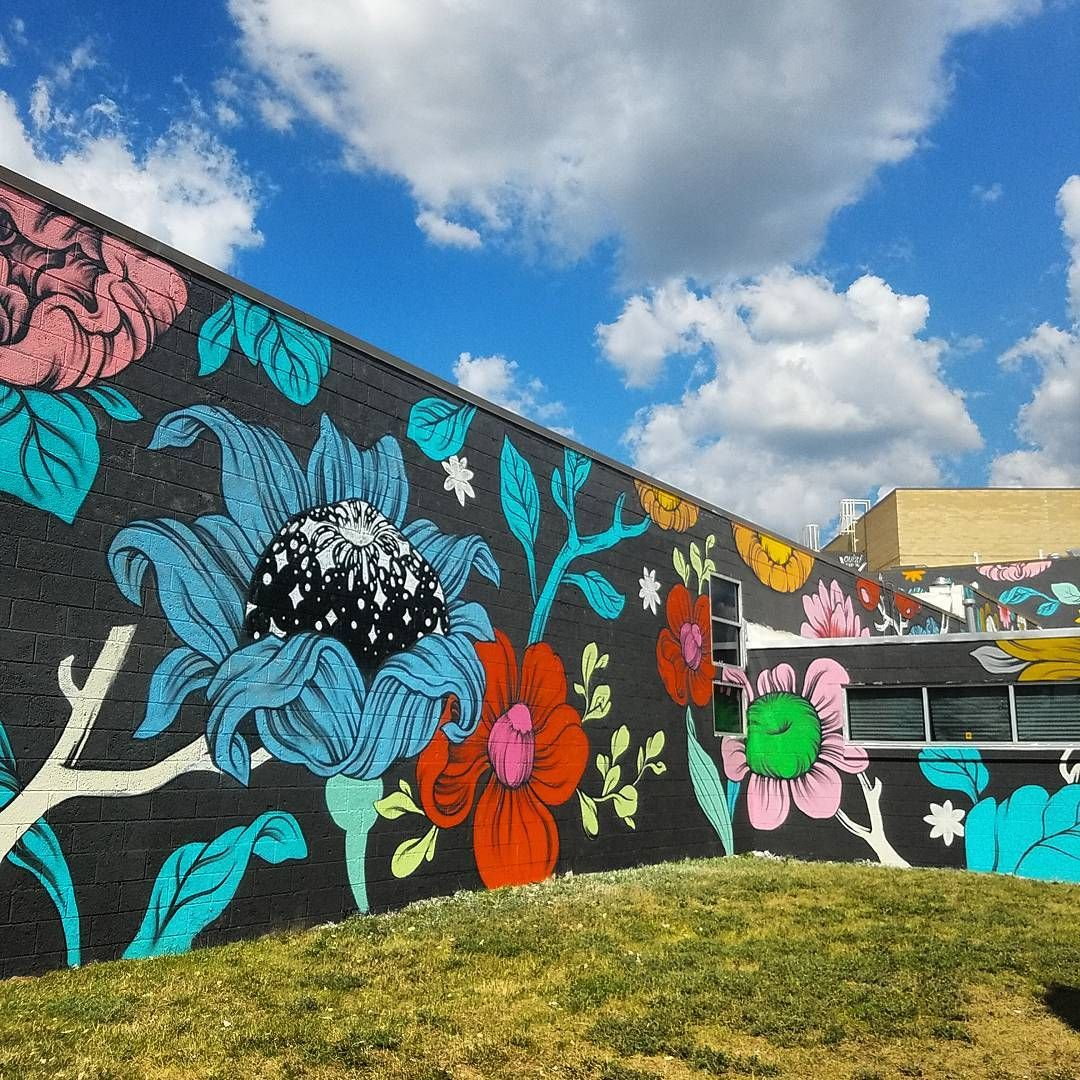graphite: (25, 276, 700, 871), (720, 653, 1080, 899), (733, 534, 863, 637), (941, 570, 1080, 654)
